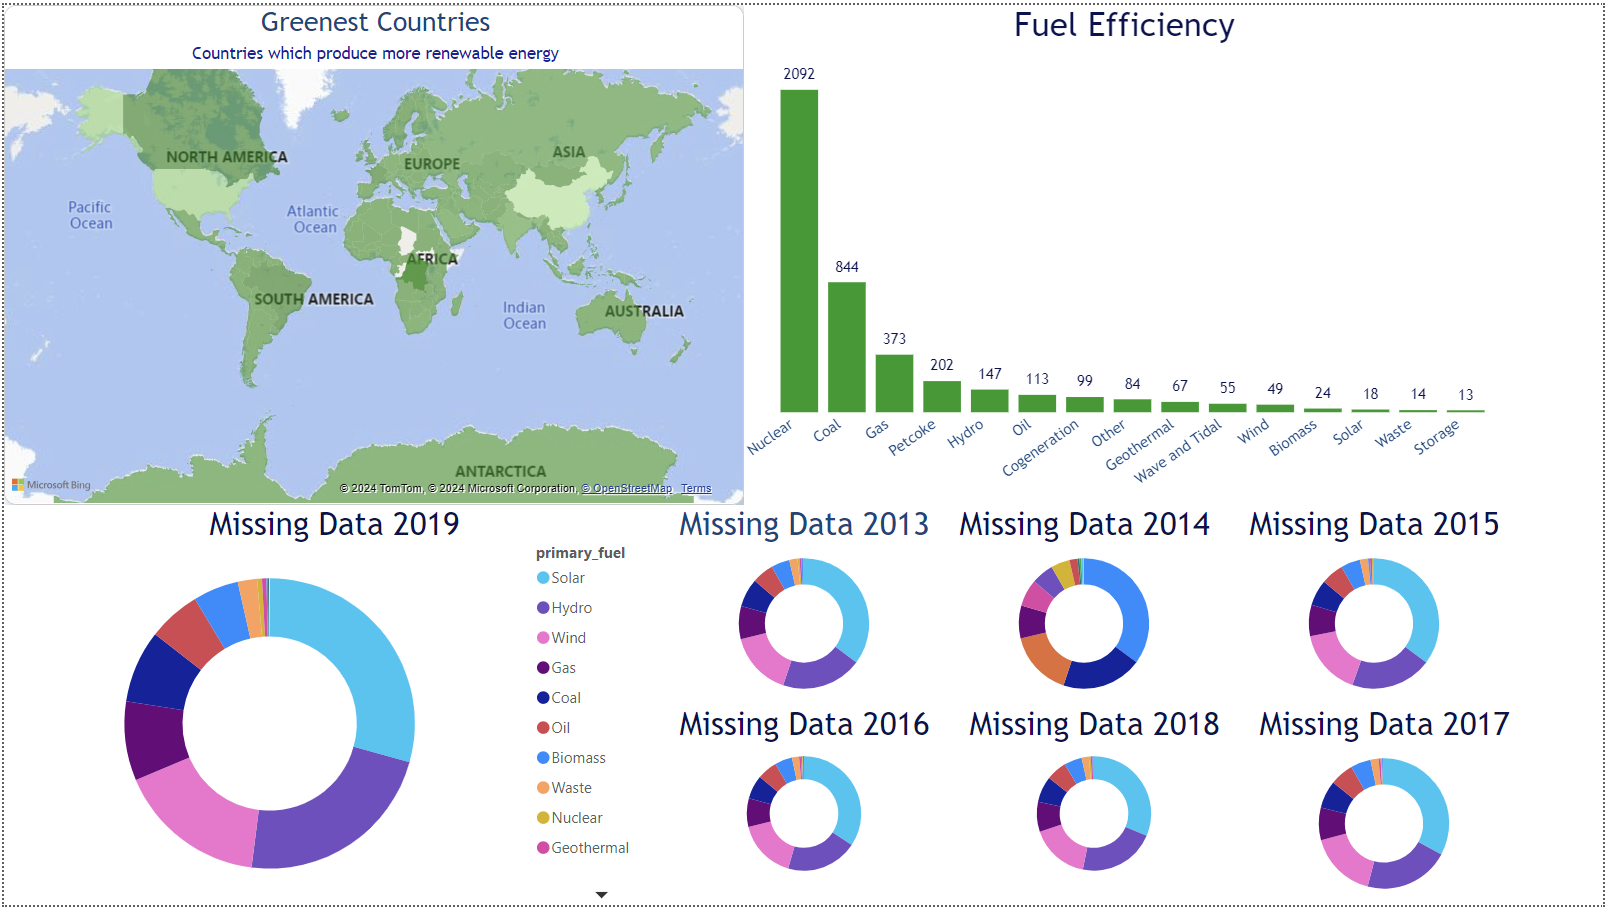

The page's visual inventory and layout, read from the dashboard file:
{"tool":"powerbi","page":{"name":"Page 1","canvas":[1280,720],"ordinal":0},"visuals":[{"type":"filledMap","title":"Greenest Countries","fields":{"Category":["power_plant country_capacity_balance.country_long"]},"box":[0,0,592,400],"z":0},{"type":"clusteredColumnChart","title":"Fuel Efficiency","fields":{"Category":["power_plant fuel_efficiency.primary_fuel"],"Y":["Sum(power_plant fuel_efficiency.fuel_efficiency)"]},"box":[592,0,608,400],"z":1000},{"type":"donutChart","title":"Missing Data 2013","fields":{"Category":["power_plant missing_data_2013.primary_fuel"],"Y":["Sum(power_plant missing_data_2013.missing_count)"]},"box":[528,400,224,160],"z":3000},{"type":"donutChart","title":"Missing Data 2015","fields":{"Category":["power_plant missing_data_2015.primary_fuel"],"Y":["Sum(power_plant missing_data_2015.missing_count)"]},"box":[976,400,240,160],"z":4000},{"type":"donutChart","title":"Missing Data 2014","fields":{"Y":["Sum(power_plant missing_data_2014.missing_count)"],"Category":["power_plant missing_data_2014.primary_fuel"]},"box":[752,400,224,160],"z":5000},{"type":"donutChart","title":"Missing Data 2016","fields":{"Category":["power_plant missing_data_2016.primary_fuel"],"Y":["Sum(power_plant missing_data_2016.missing_count)"]},"box":[528,560,224,144],"z":6000},{"type":"donutChart","title":"Missing Data 2017","fields":{"Category":["power_plant missing_data_2017.primary_fuel"],"Y":["Sum(power_plant missing_data_2017.missing_count)"]},"box":[992,560,224,160],"z":6001},{"type":"donutChart","title":"Missing Data 2018","fields":{"Category":["power_plant missing_data_2018.primary_fuel"],"Y":["Sum(power_plant missing_data_2018.missing_count)"]},"box":[768,560,208,144],"z":6002},{"type":"donutChart","title":"Missing Data 2019","fields":{"Category":["power_plant missing_data_2019.primary_fuel"],"Y":["Sum(power_plant missing_data_2019.missing_count)"]},"box":[0,400,528,320],"z":6003}]}

Visuals, with their boxes in screenshot pixels (x1, y1, x2, y2), scaled from the page's 1280x720 canvas onto the 1607x907 screenshot:
"Greenest Countries" filledMap: crop(0, 0, 743, 504)
"Fuel Efficiency" clusteredColumnChart: crop(743, 0, 1507, 504)
"Missing Data 2013" donutChart: crop(663, 504, 944, 705)
"Missing Data 2015" donutChart: crop(1225, 504, 1527, 705)
"Missing Data 2014" donutChart: crop(944, 504, 1225, 705)
"Missing Data 2016" donutChart: crop(663, 705, 944, 887)
"Missing Data 2017" donutChart: crop(1245, 705, 1527, 906)
"Missing Data 2018" donutChart: crop(964, 705, 1225, 887)
"Missing Data 2019" donutChart: crop(0, 504, 663, 906)
